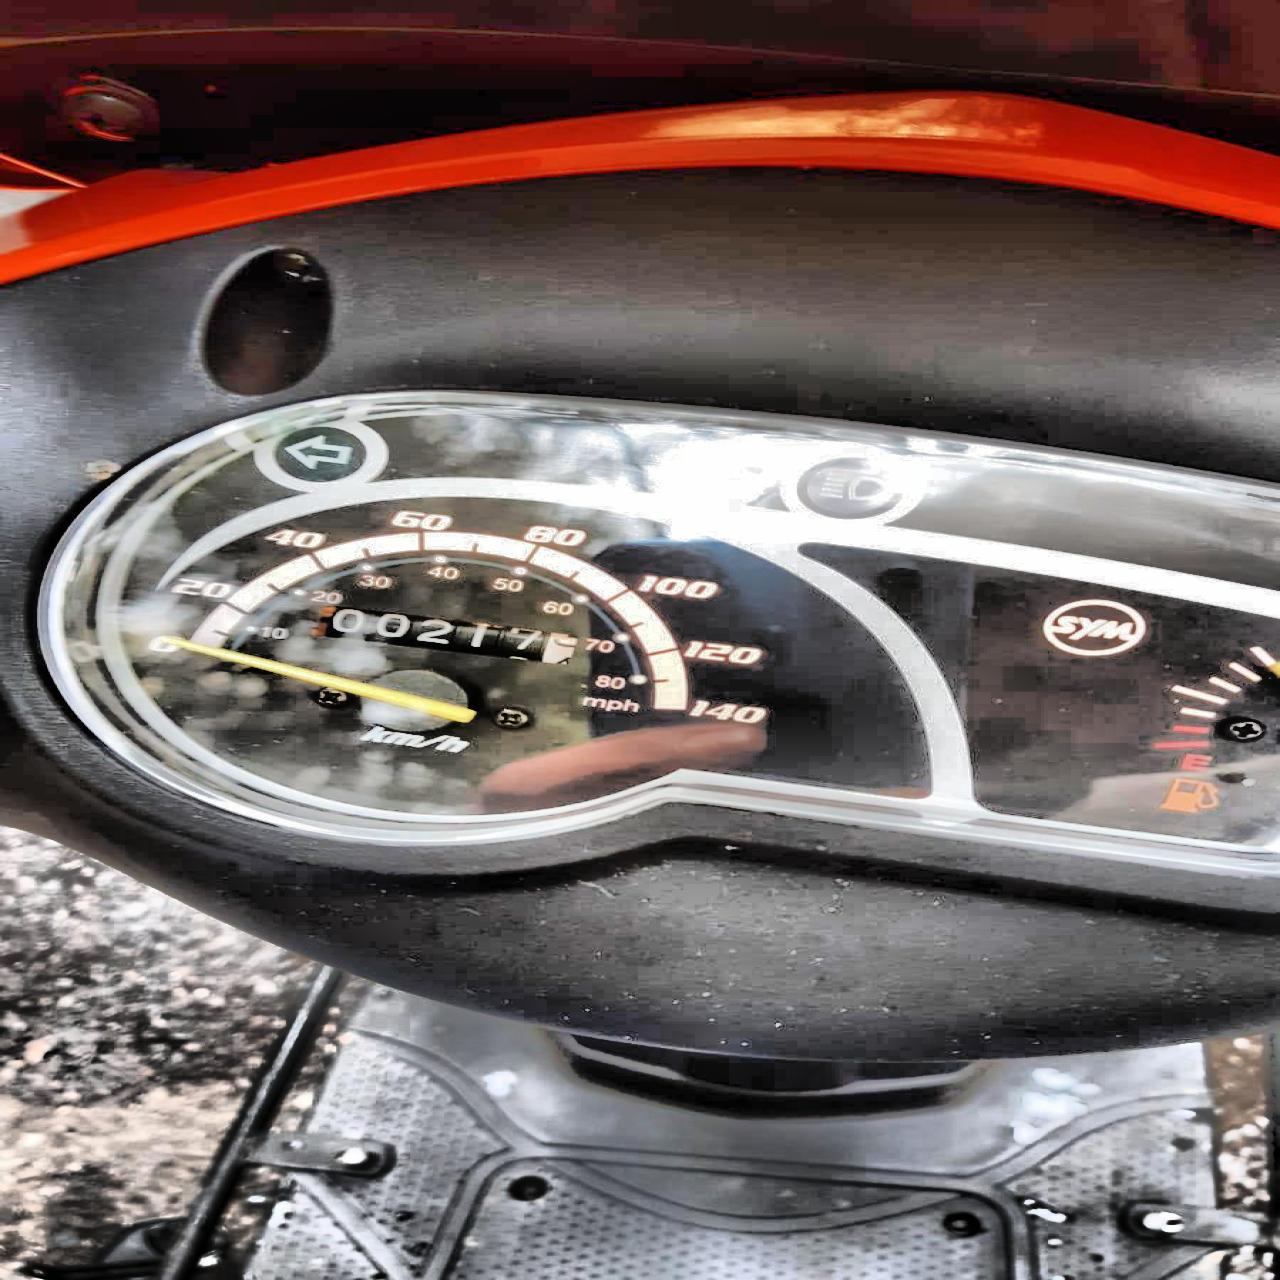0: (331, 607, 362, 633), (375, 613, 407, 638), (557, 602, 574, 615)
1: (467, 622, 486, 647)
2: (415, 619, 451, 644)
3: (550, 629, 578, 651)
6: (539, 600, 557, 613)
7: (509, 626, 540, 649)
odometer: (307, 602, 579, 666)
